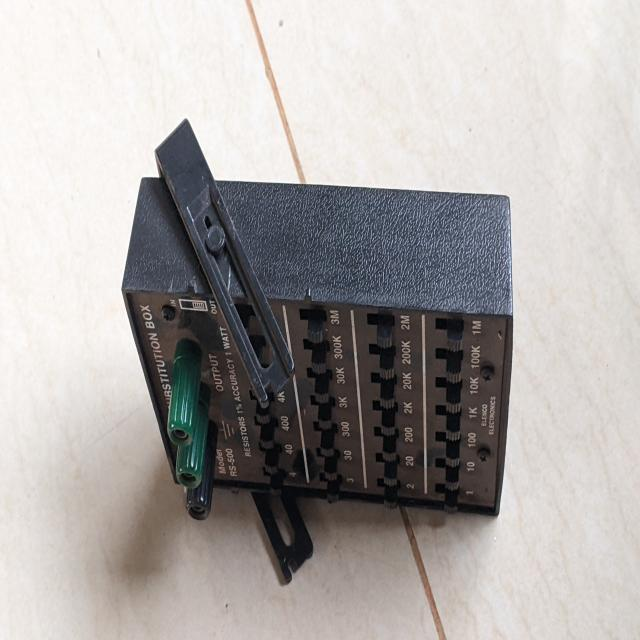Resistor Substitution Box: (95, 116, 524, 584)
